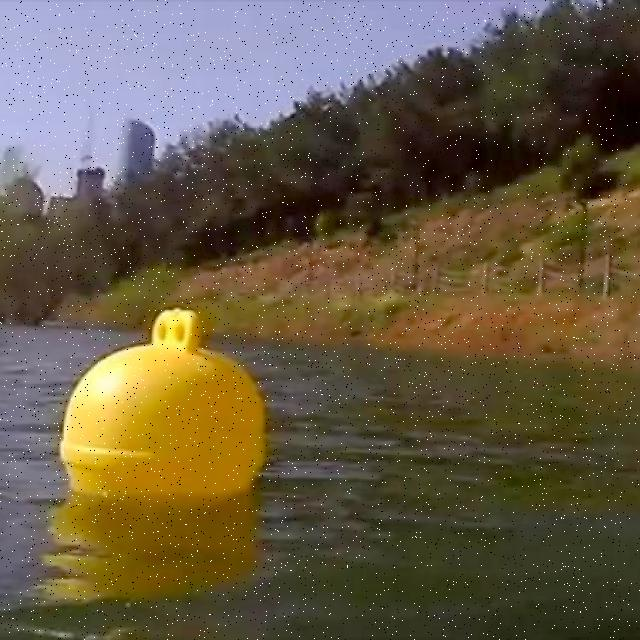buoy: (59, 308, 267, 498)
